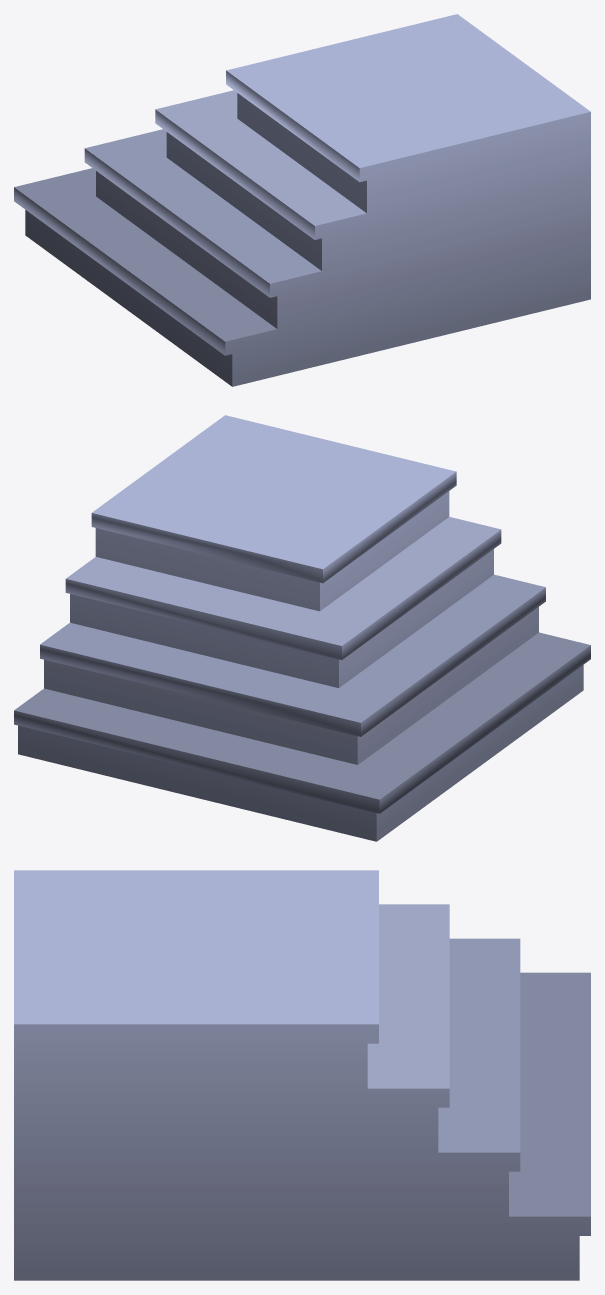
The model's file is stairs-full-corner-outer.glb.
3 views of the same model, one above another, from view 1: azimuth 30°, elevation 25°; view 2: azimuth 150°, elevation 25°; view 3: azimuth 270°, elevation 25° (orthographic). The views are drawn at different scales.
Visible parts, largest first — view 1: stairs-full-corner-outer; view 2: stairs-full-corner-outer; view 3: stairs-full-corner-outer.
Boxes of the visible parts, x1=… form: stairs-full-corner-outer: x1=14, y1=14, x2=590, y2=386; stairs-full-corner-outer: x1=14, y1=415, x2=590, y2=841; stairs-full-corner-outer: x1=14, y1=870, x2=590, y2=1280.
Size of the model in its own units: 1.02 by 0.5 by 1.02.
1 material, 1 textured.
